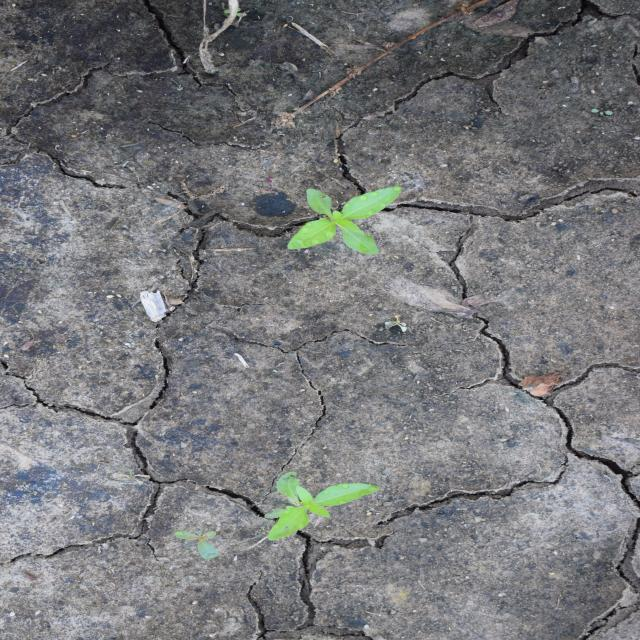Eclipta: (262, 470, 384, 543), (284, 185, 404, 256)
Waterhemp: (171, 526, 220, 562)
